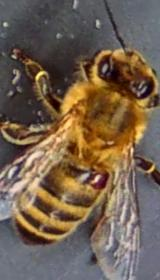varroa_mite: (80, 163, 110, 190)
